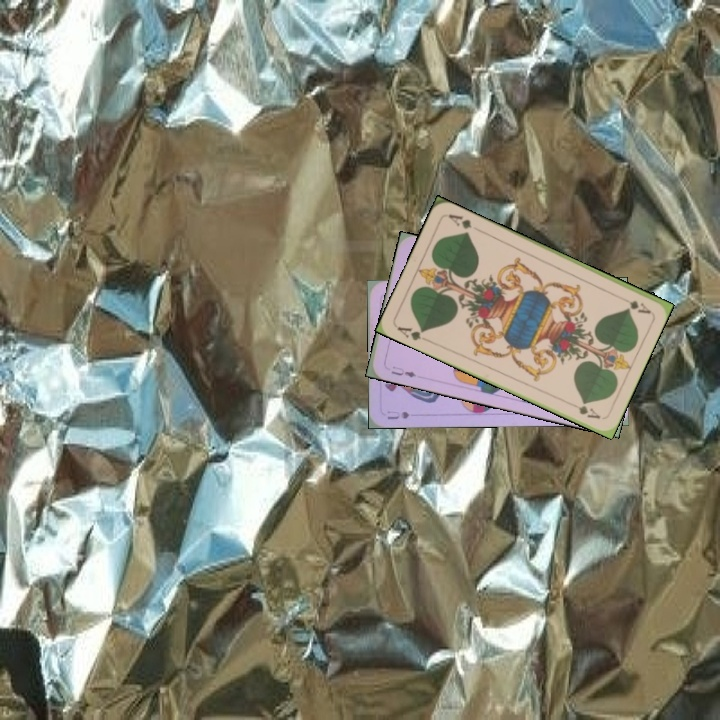EU: (387, 362, 419, 380)
GA: (614, 292, 653, 317), (393, 322, 432, 344)
SU: (383, 407, 411, 422)
